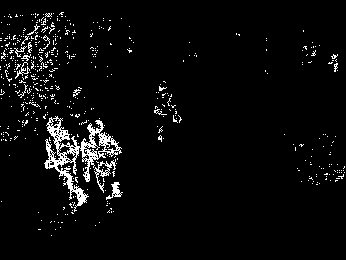person: (80, 119, 124, 214), (43, 116, 88, 207), (151, 80, 184, 143)
